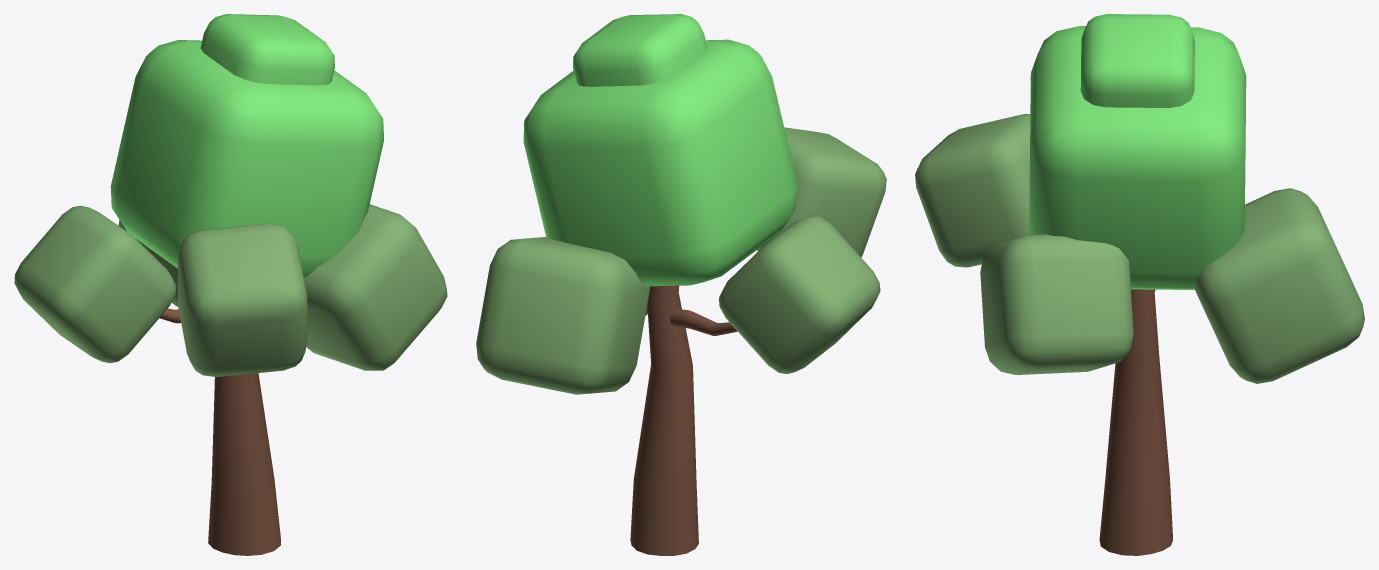
The model's file is StylizedTree1.fbx.
3 renders of one model, left to right at view 1: azimuth 30°, elevation 25°; view 2: azimuth 150°, elevation 25°; view 3: azimuth 270°, elevation 25°, orthographic. The views are drawn at different scales.
Visible parts, largest first — view 1: Cube, Cube.005, Cube.001, Cube.002, Cylinder, Cube.004; view 2: Cube, Cube.003, Cube.001, Cylinder, Cube.005, Cube.004, Cylinder.001; view 3: Cube, Cube.003, Cube.002, Cylinder, Cube.005, Cube.004.
Boxes of the visible parts, box(x1,y1,x2,y2) form: Cube: box(110, 40, 383, 277); Cube.005: box(178, 223, 307, 376); Cube.001: box(14, 205, 175, 362); Cube.002: box(304, 204, 447, 370); Cylinder: box(208, 373, 280, 555); Cube.004: box(200, 14, 334, 85); Cube: box(523, 39, 797, 286); Cube.003: box(476, 237, 650, 394); Cube.001: box(719, 215, 880, 373); Cylinder: box(630, 285, 698, 555); Cube.005: box(757, 127, 886, 257); Cube.004: box(573, 14, 707, 86); Cylinder.001: box(670, 309, 737, 335); Cube: box(1029, 26, 1246, 289); Cube.003: box(1194, 188, 1364, 383); Cube.002: box(980, 234, 1133, 374); Cylinder: box(1099, 289, 1172, 555); Cube.005: box(915, 114, 1030, 267); Cube.004: box(1080, 14, 1194, 107).
Bounding box in the file's own units: 384 × 536 × 418.
